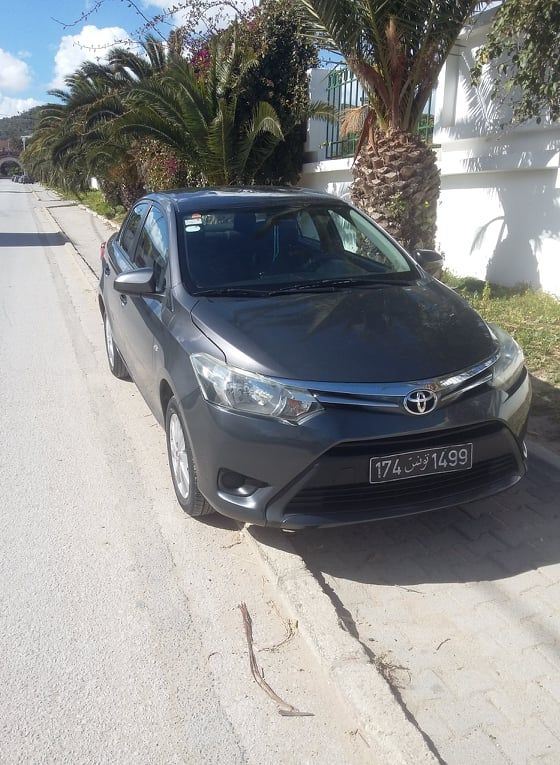LP: (369, 442, 473, 483)
